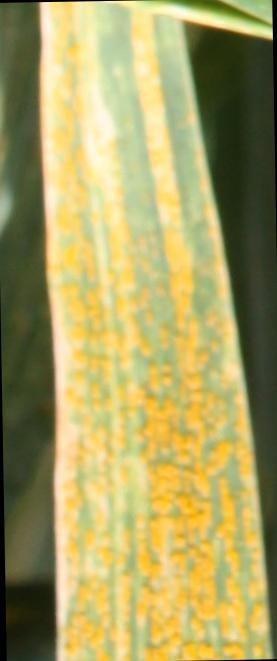Wheat: (66, 286, 256, 654)
